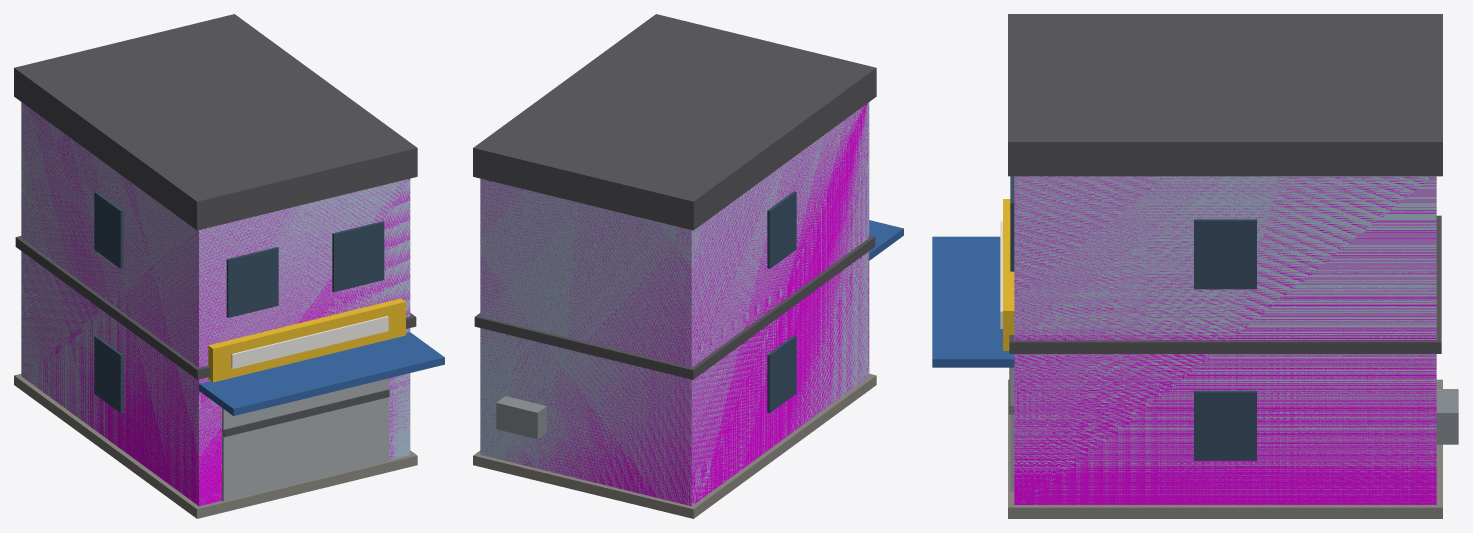
Rendered from Shop_2S_02.glb.
3 renders of one model, left to right at view 1: azimuth 30°, elevation 25°; view 2: azimuth 150°, elevation 25°; view 3: azimuth 270°, elevation 25°, orthographic. The views are drawn at different scales.
Visible parts, largest first — view 1: Shop_2S_02, Shop_2S_02_COL; view 2: Shop_2S_02, Shop_2S_02_COL; view 3: Shop_2S_02, Shop_2S_02_COL.
Boxes of the visible parts, bbox=[...] form: Shop_2S_02: bbox=[14, 14, 444, 518]; Shop_2S_02_COL: bbox=[21, 103, 410, 506]; Shop_2S_02: bbox=[473, 14, 903, 518]; Shop_2S_02_COL: bbox=[480, 103, 869, 505]; Shop_2S_02: bbox=[932, 14, 1458, 518]; Shop_2S_02_COL: bbox=[1014, 176, 1436, 504].
Size of the model in its own units: 4.8 by 6.6 by 8.35.
